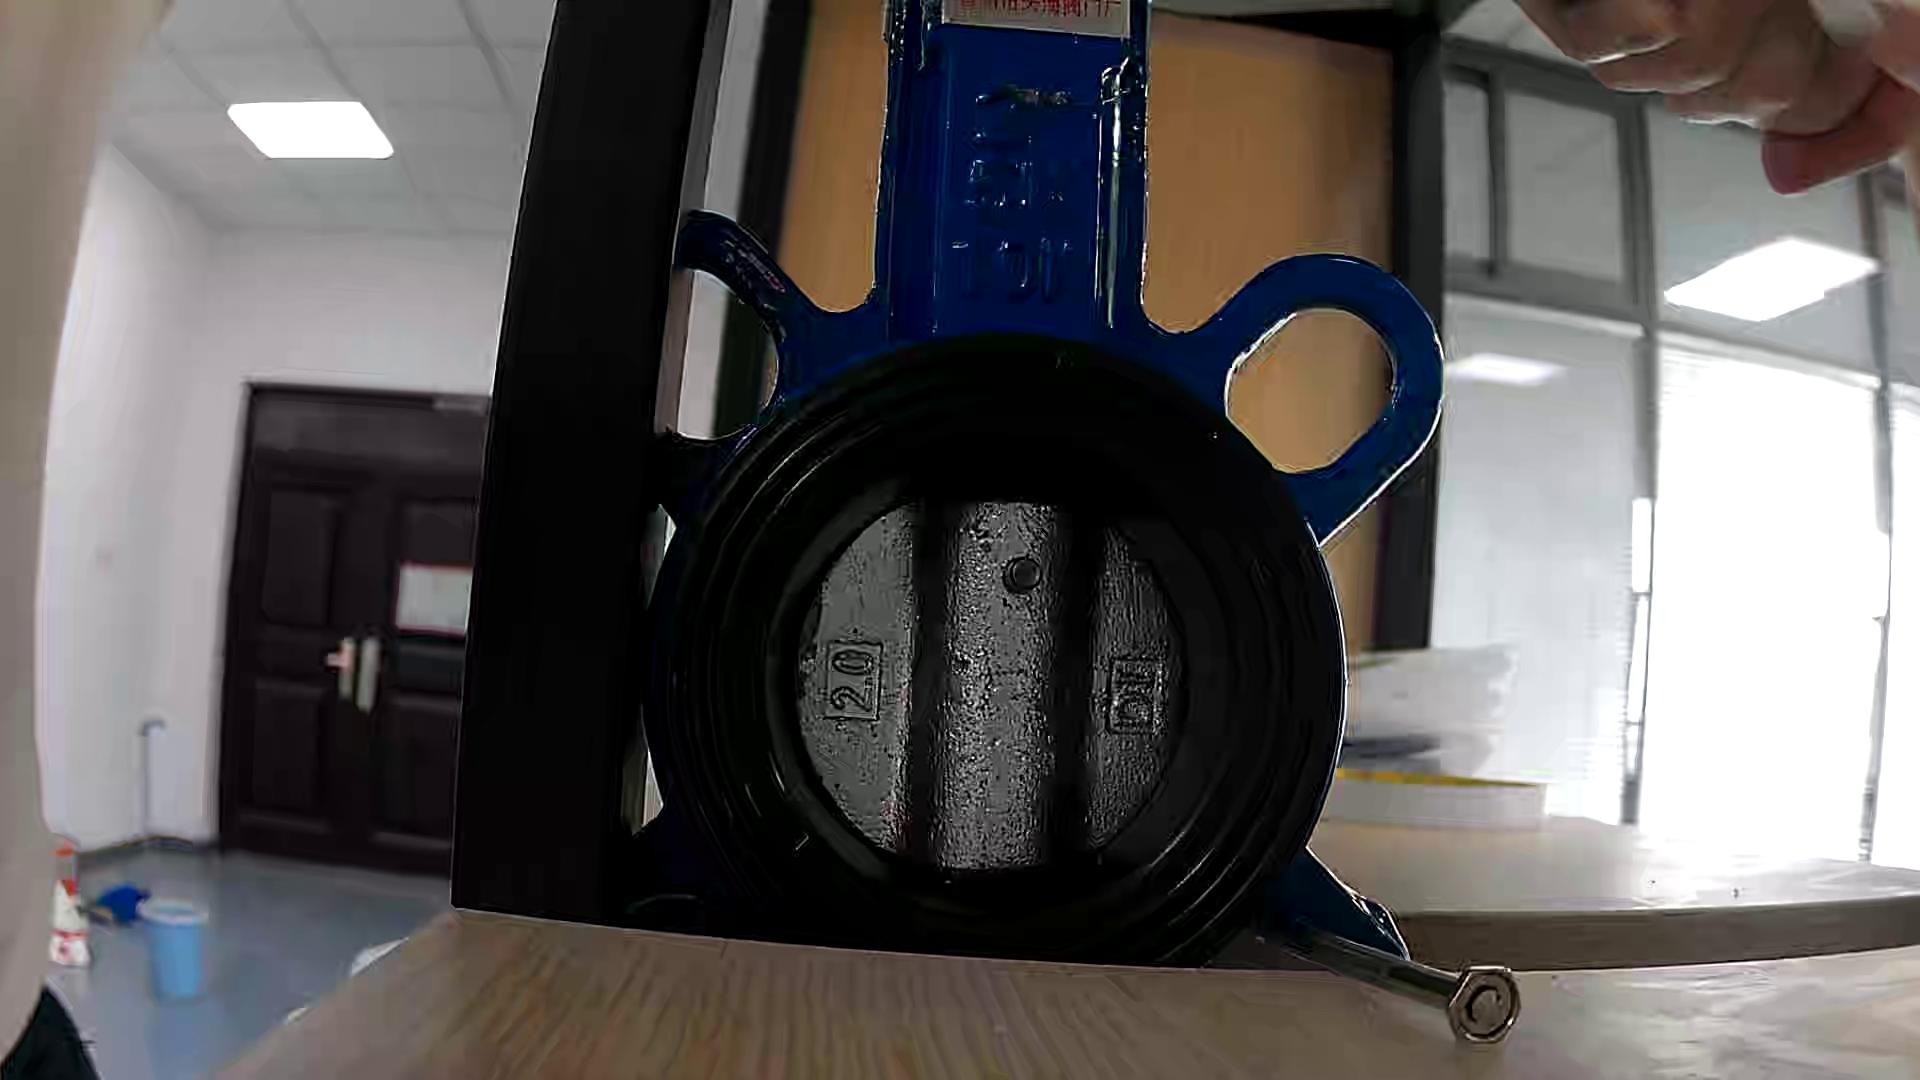valve: (795, 499, 1185, 874)
